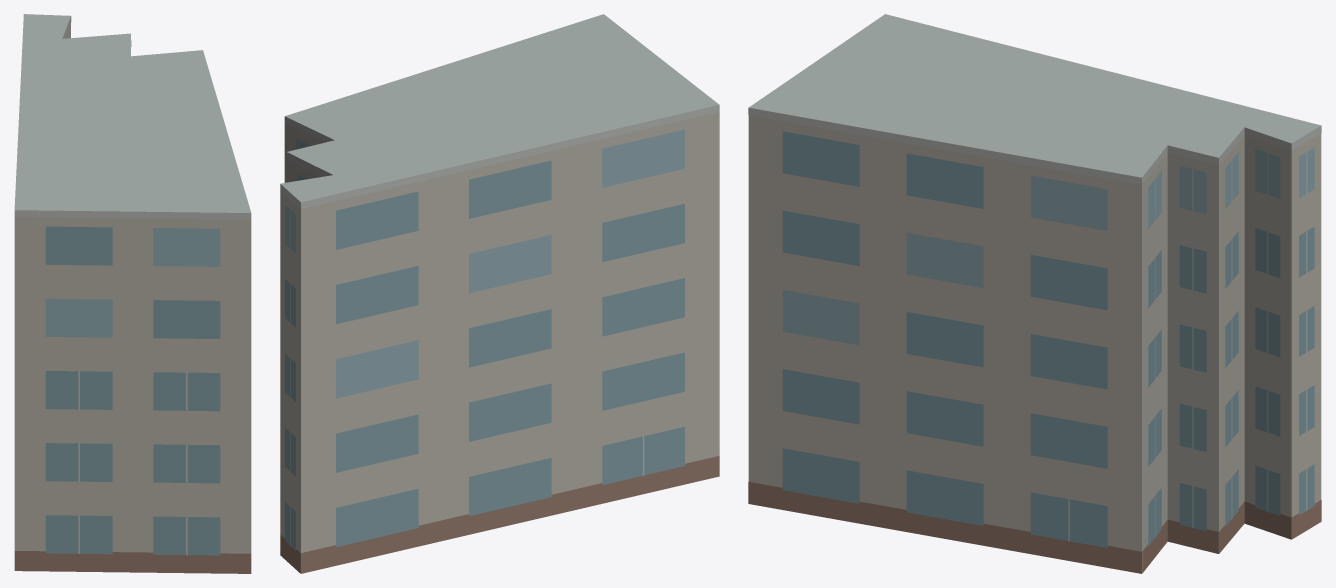
Rendered from survey-upis-32783020.glb.
3 renders of one model, left to right at view 1: azimuth 30°, elevation 25°; view 2: azimuth 150°, elevation 25°; view 3: azimuth 270°, elevation 25°, orthographic. The views are drawn at different scales.
Parts seen in each view (by area): view 1: survey-upis-32783020.tmp; view 2: survey-upis-32783020.tmp; view 3: survey-upis-32783020.tmp.
Boxes of the visible parts, left/top/right/bottom form: survey-upis-32783020.tmp: left=14, top=14, right=251, bottom=573; survey-upis-32783020.tmp: left=280, top=14, right=719, bottom=573; survey-upis-32783020.tmp: left=748, top=14, right=1321, bottom=573.
Bounding box in the file's own units: 11.61 × 13.1 × 17.18.
